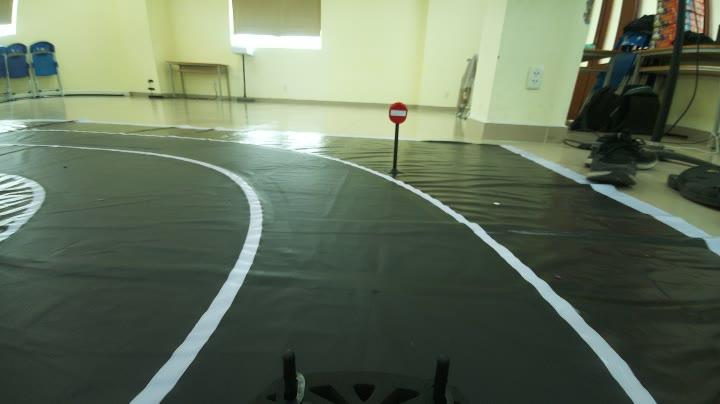no_entry: (384, 97, 414, 128)
